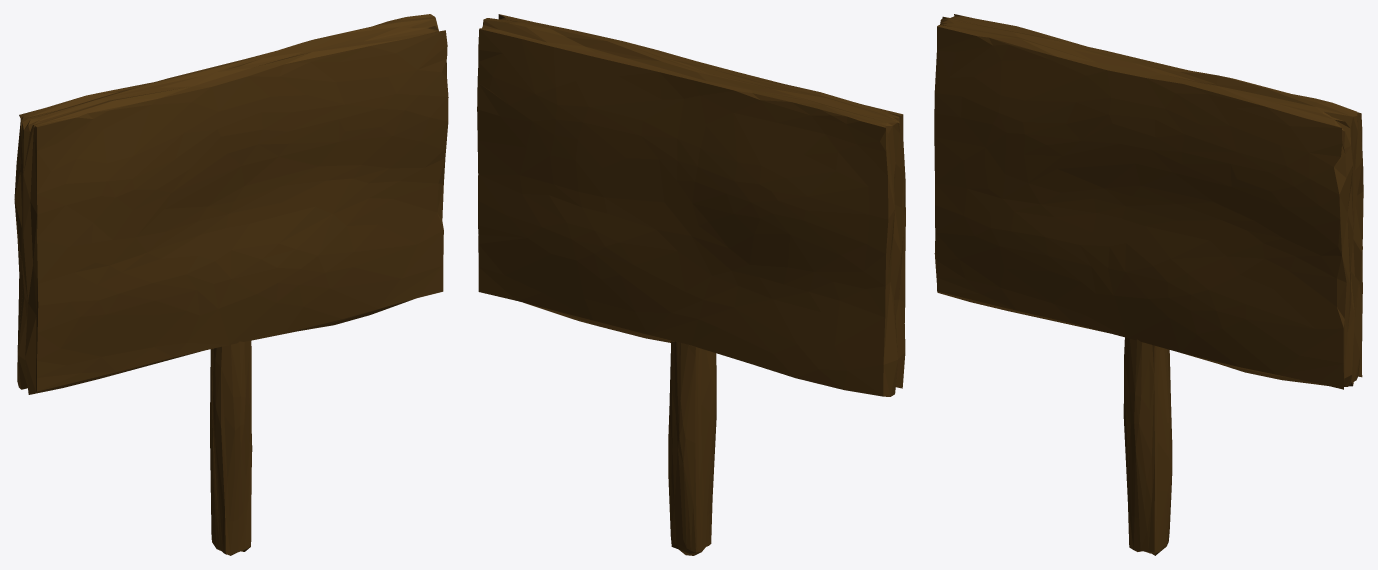
File: panneauTuto.fbx
The picture shows the model from 3 angles, left to right: view 1: azimuth 30°, elevation 25°; view 2: azimuth 150°, elevation 25°; view 3: azimuth 330°, elevation 25°; orthographic projection.
Visible parts, largest first — view 1: panel; view 2: panel; view 3: panel.
Part boxes in pixels (x1,y1,x2,y2): panel: [14, 14, 448, 555]; panel: [477, 14, 905, 555]; panel: [934, 14, 1363, 555].
Bounding box in the file's own units: 227 × 255 × 26.17.
